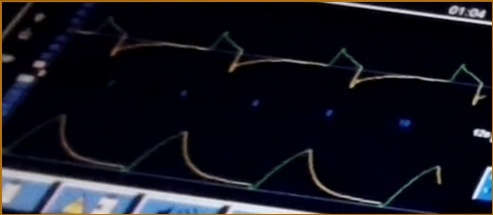Flow: (77, 14, 486, 106)
Leakage Volume: (3, 114, 444, 208)
